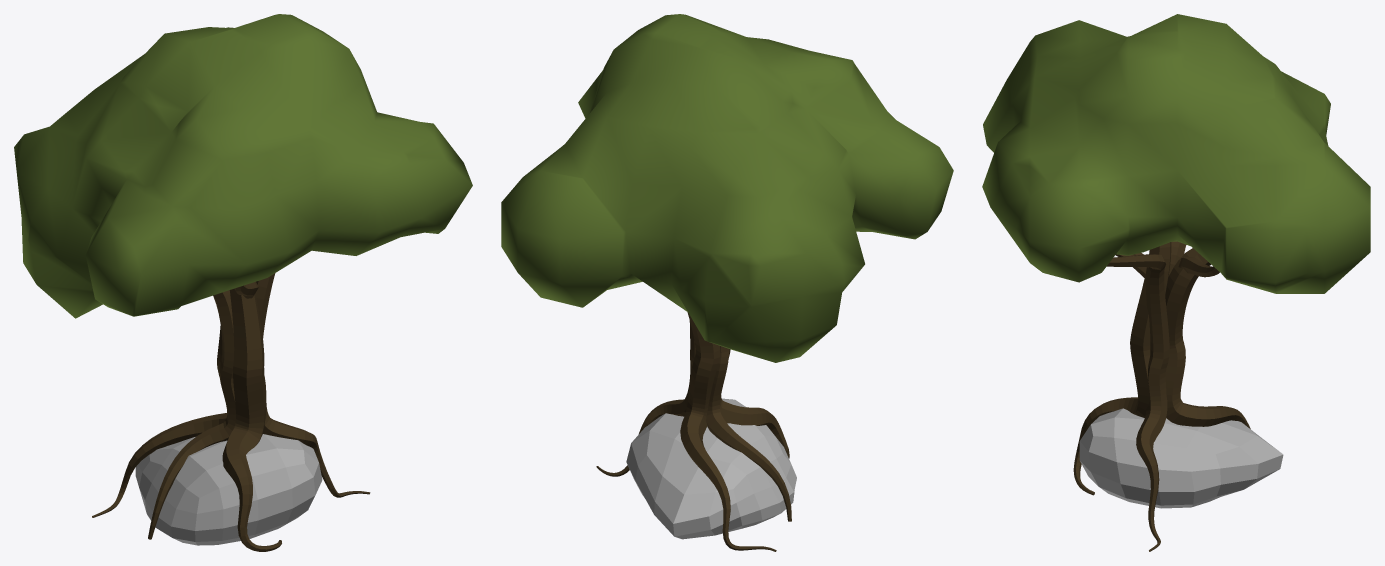
File: abre1_v1.fbx
3 renders of one model, left to right at view 1: azimuth 30°, elevation 25°; view 2: azimuth 150°, elevation 25°; view 3: azimuth 270°, elevation 25°, orthographic. The views are drawn at different scales.
Parts seen in each view (by area): view 1: Mball, Cube, BezierCurve.003, BezierCurve.002, BezierCurve.001, BezierCurve; view 2: Mball, Cube, BezierCurve.001, BezierCurve.002, BezierCurve.003, BezierCurve; view 3: Mball, Cube, BezierCurve, BezierCurve.001, BezierCurve.003, BezierCurve.006.
Part boxes in pixels (bbox=[...]): Mball: bbox=[14, 14, 472, 318]; Cube: bbox=[135, 434, 322, 545]; BezierCurve.003: bbox=[222, 288, 281, 551]; BezierCurve.002: bbox=[148, 290, 235, 539]; BezierCurve.001: bbox=[92, 326, 227, 517]; BezierCurve: bbox=[255, 273, 370, 497]; Mball: bbox=[501, 14, 953, 362]; Cube: bbox=[626, 398, 796, 539]; BezierCurve.001: bbox=[680, 312, 776, 551]; BezierCurve.002: bbox=[706, 346, 791, 521]; BezierCurve.003: bbox=[720, 349, 789, 458]; BezierCurve: bbox=[596, 321, 695, 476]; Mball: bbox=[982, 14, 1370, 293]; Cube: bbox=[1079, 408, 1283, 508]; BezierCurve: bbox=[1107, 254, 1169, 551]; BezierCurve.001: bbox=[1165, 248, 1250, 428]; BezierCurve.003: bbox=[1073, 242, 1171, 495]; BezierCurve.006: bbox=[1178, 257, 1219, 277].
Bounding box in the file's own units: 1814 × 2255 × 1687.
